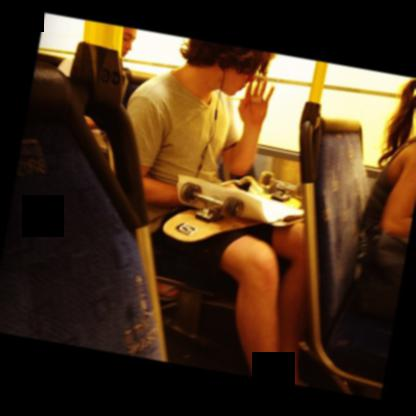handbag: (346, 236, 414, 361)
